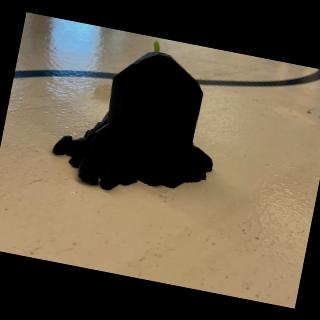teletubby: (153, 40, 159, 52)
